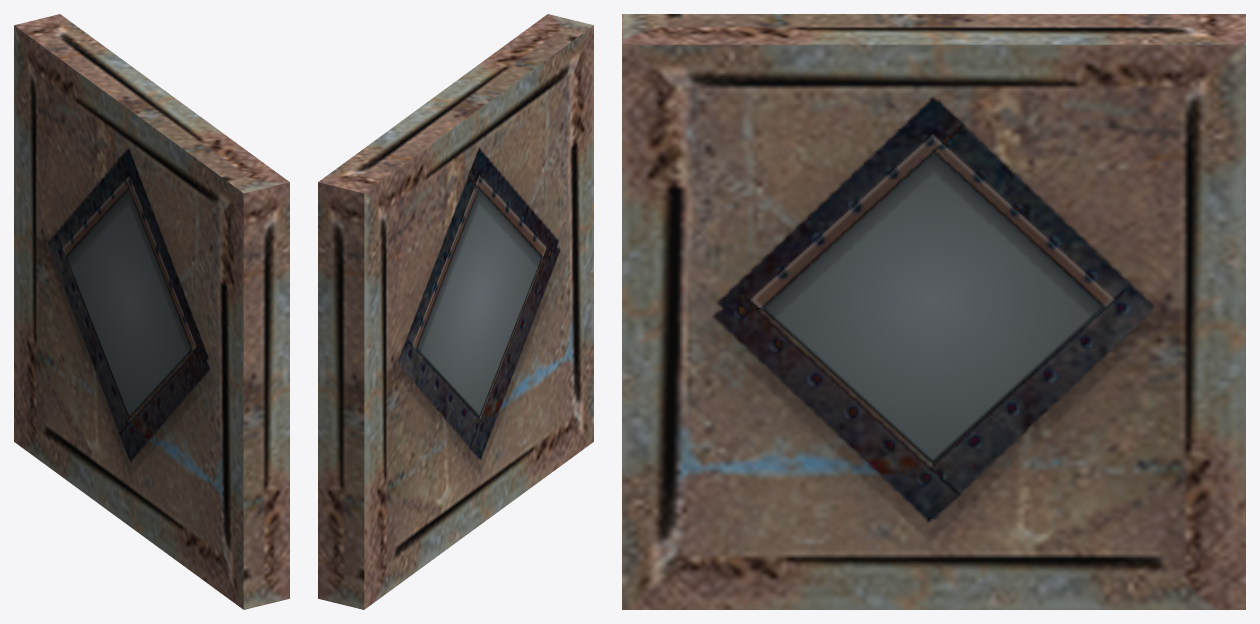
File: switch_metal.glb
3 renders of one model, left to right at view 1: azimuth 30°, elevation 25°; view 2: azimuth 150°, elevation 25°; view 3: azimuth 270°, elevation 25°, orthographic. The views are drawn at different scales.
Visible parts, largest first — view 1: Cube; view 2: Cube; view 3: Cube.
Boxes of the visible parts, box(x1,y1,x2,y2) form: Cube: box(14, 14, 289, 609); Cube: box(318, 14, 593, 609); Cube: box(622, 14, 1245, 609).
Size of the model in its own units: 0.1484 by 1.28 by 1.28.
1 material, 1 textured.
